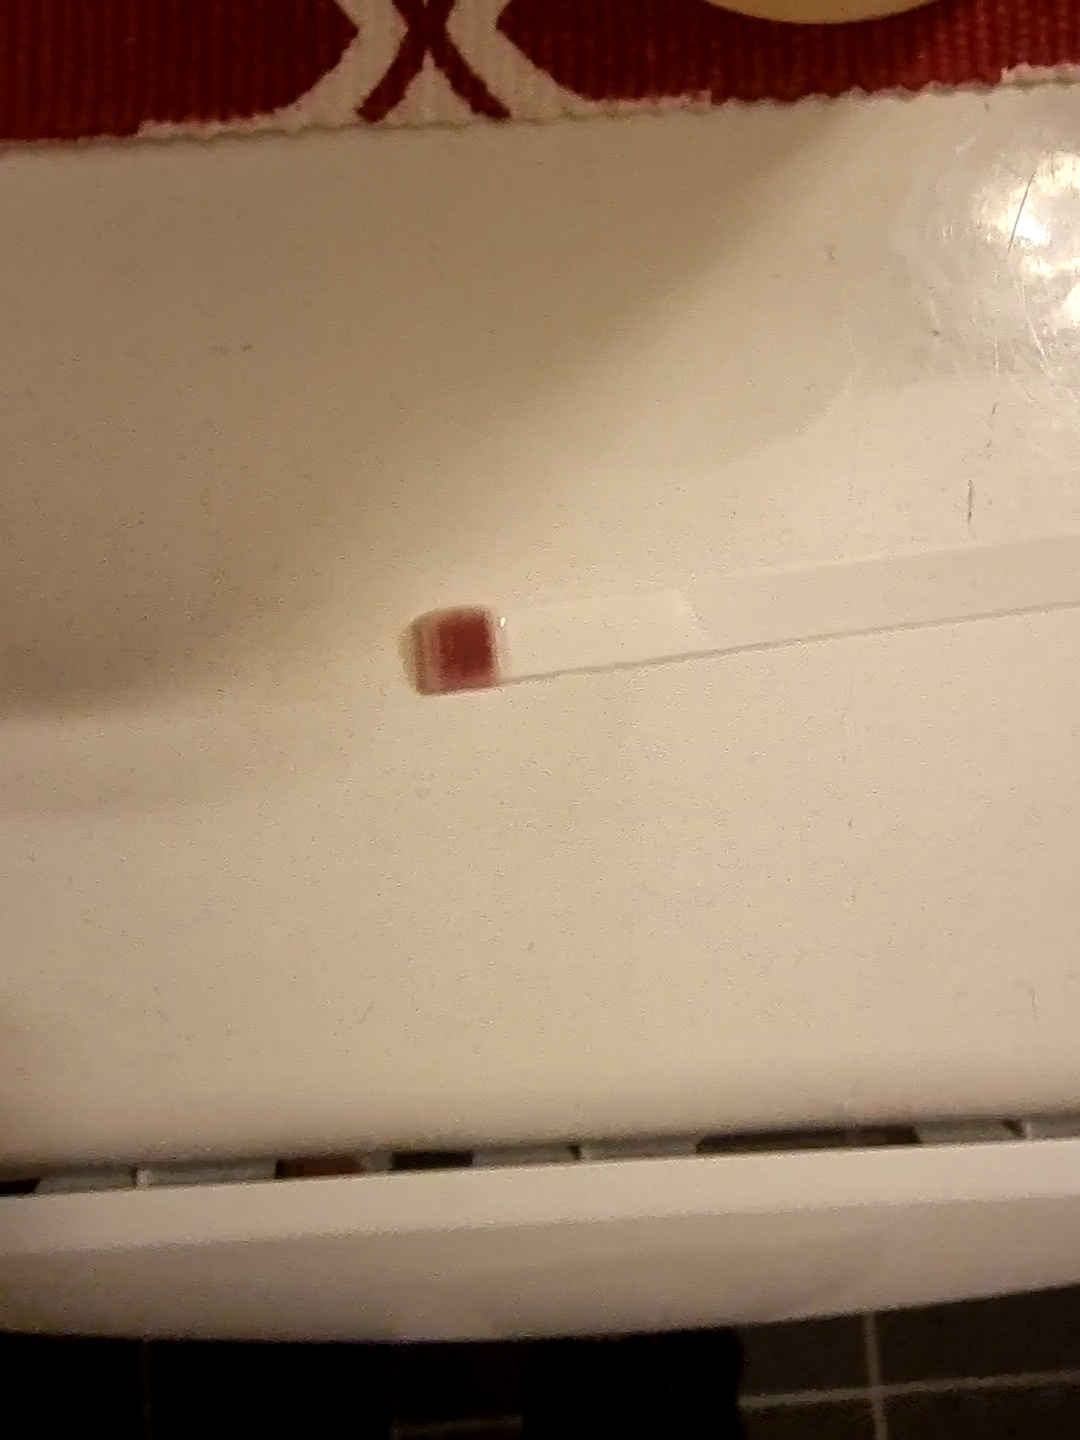keto-tip: (402, 602, 511, 698)
